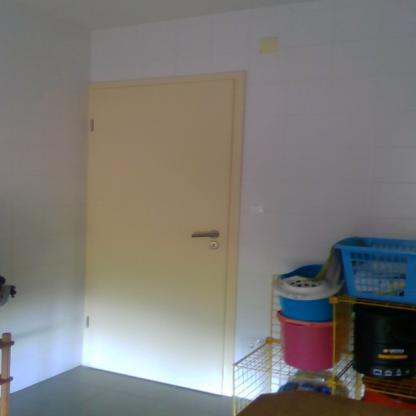door: (90, 89, 226, 390)
hinged: (84, 313, 90, 330), (90, 118, 94, 131)
lever: (190, 232, 221, 238)
